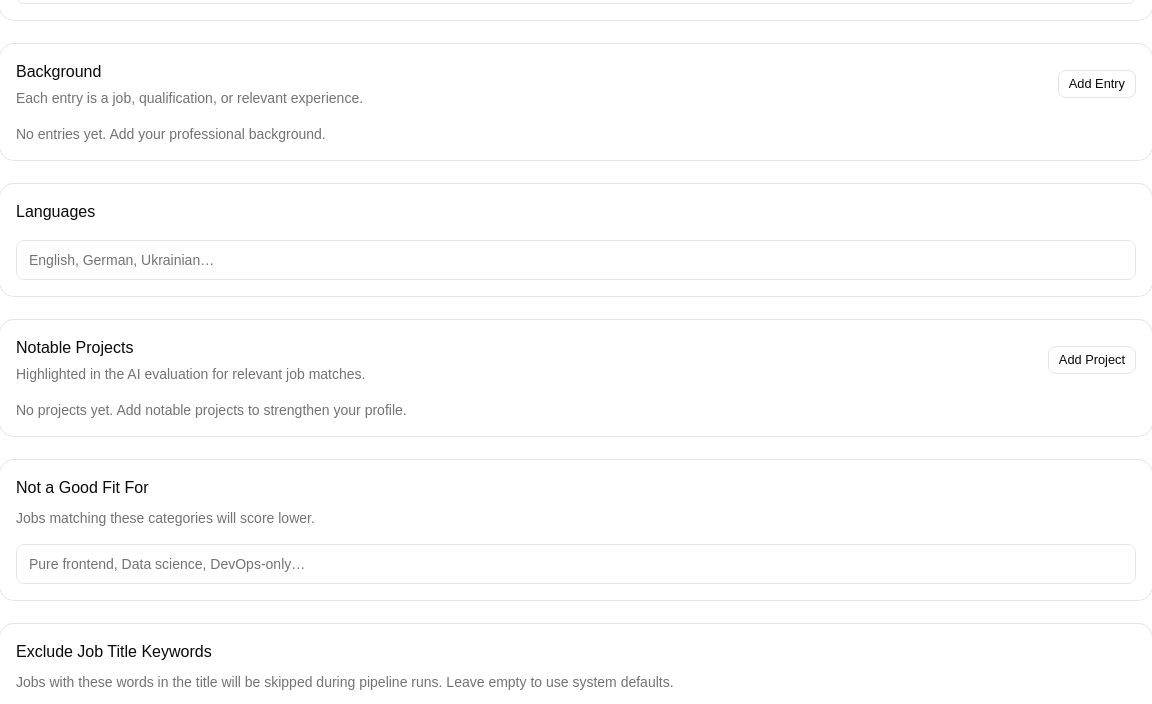
Test: ProfilePage › adds and removes notable projects
The image size is (1152, 704).
(page scrolled)
Expected: the text "No projects yet. Add notable projects to strengthen your profile." is shown, [16,402,407,418]
// Add a project
Step 1. Click the button "Add Project" → (1092, 360), box [1048,346,1136,374]
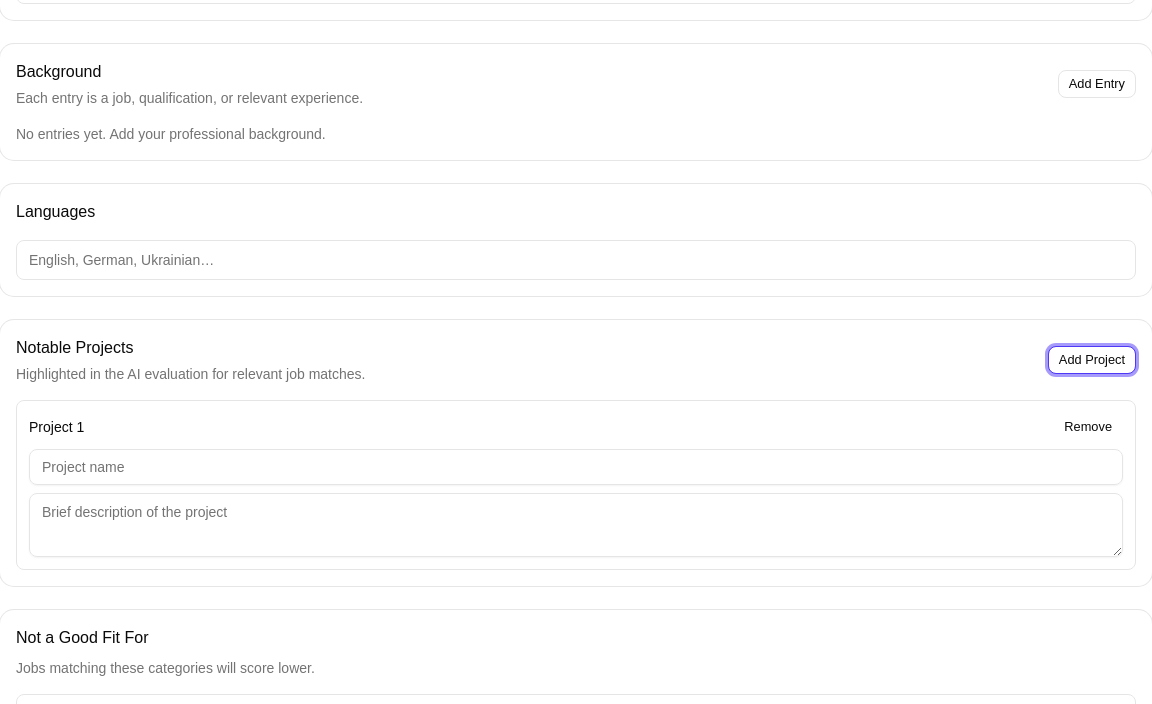
Now the text "Project 1" is shown, box [29,417,84,437]
Now the field with placeholder "Project name" is shown
Step 2. Type "Test Project" into the field with placeholder "Project name" → (576, 467), box [29,449,1123,485]
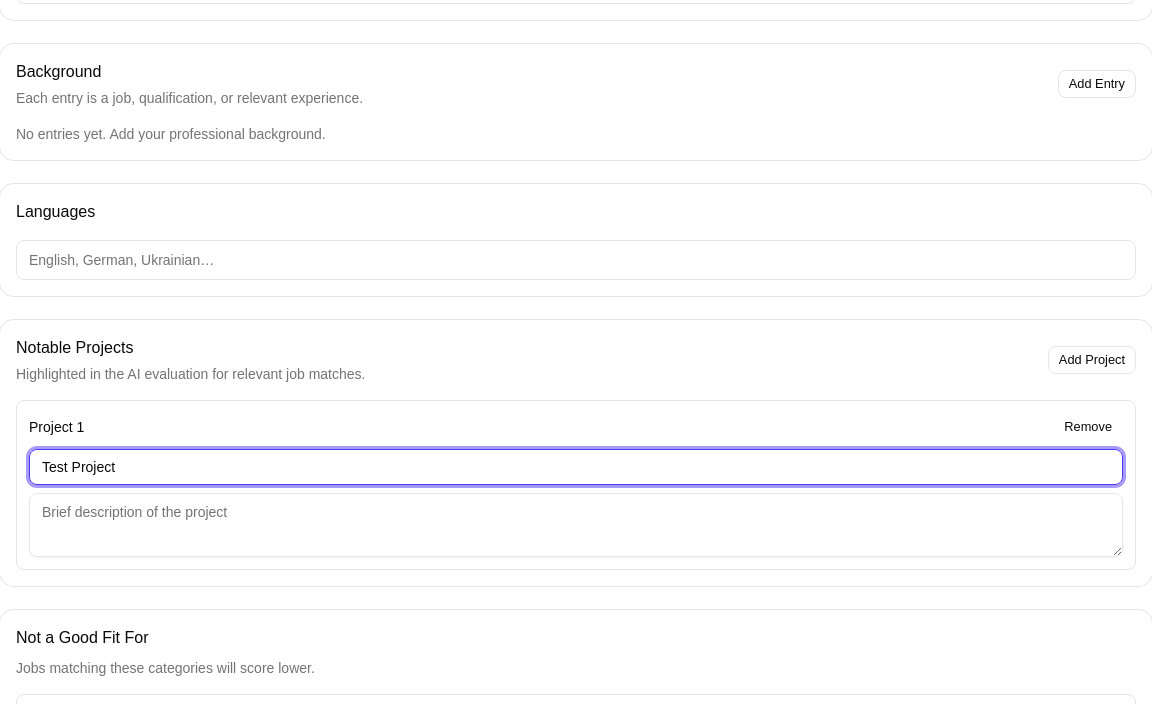
Step 3. Type "A test project" into the text box with placeholder "Brief description of the project" → (576, 525), box [29,493,1123,557]
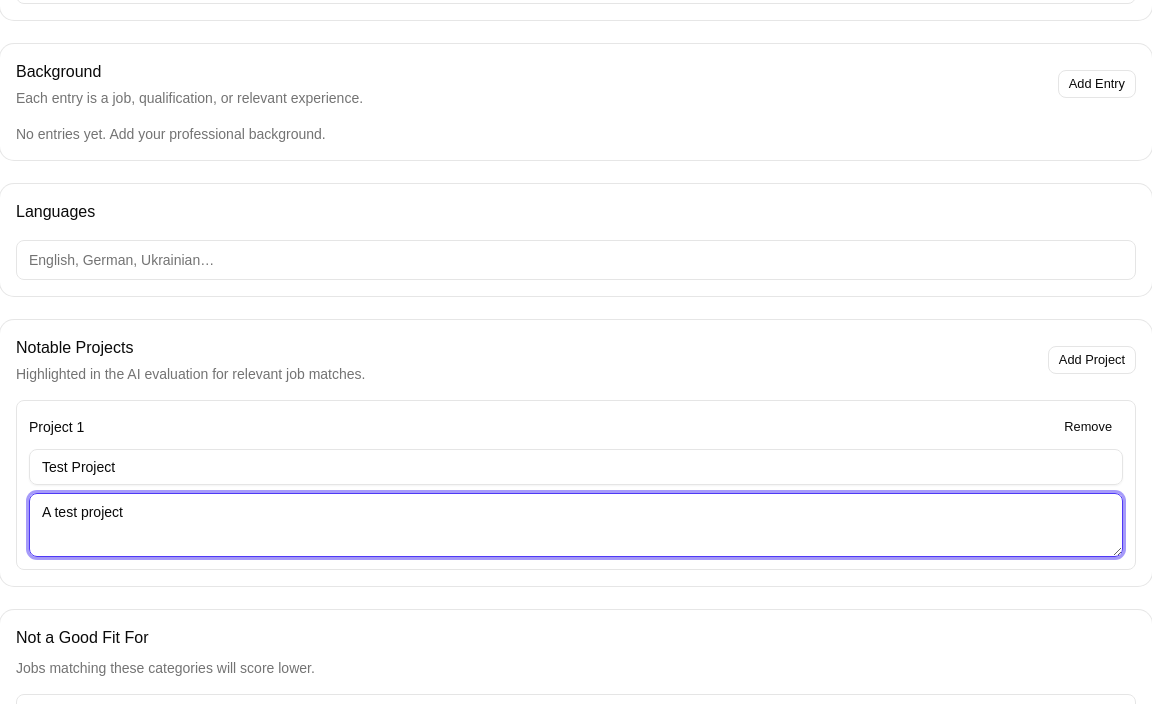
// Remove the project
Step 4. Click the button "Remove" → (1088, 427), box [1053,413,1123,441]
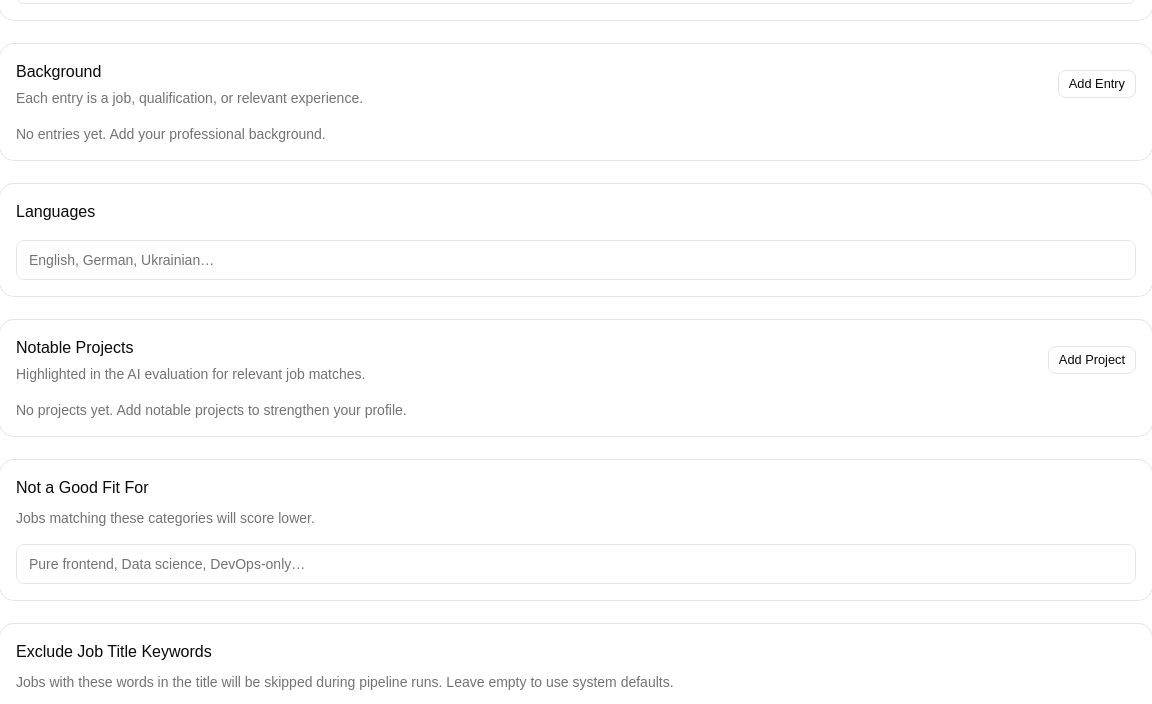
Expected: the field showing "Test Project" is not shown
Now the text "No projects yet. Add notable projects to strengthen your profile." is shown, box [16,402,407,418]
